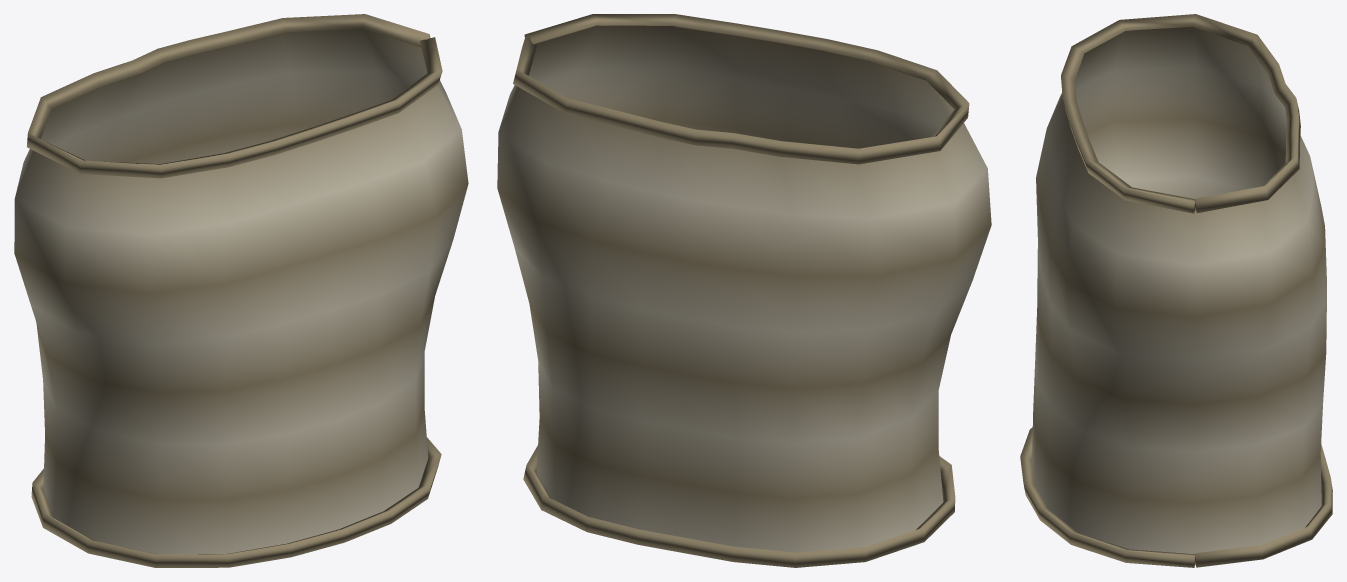
File: necro_armor_chest.glb
The picture shows the model from 3 angles, left to right: view 1: azimuth 30°, elevation 25°; view 2: azimuth 150°, elevation 25°; view 3: azimuth 270°, elevation 25°; orthographic projection. The views are drawn at different scales.
Visible parts, largest first — view 1: necro_armor_chest; view 2: necro_armor_chest; view 3: necro_armor_chest.
Boxes of the visible parts, x1,y1,x2,y2 form: necro_armor_chest: (14,14,468,567); necro_armor_chest: (497,14,991,567); necro_armor_chest: (1020,14,1332,567).
Bounding box in the file's own units: 0.4364 × 0.3859 × 0.2895.
